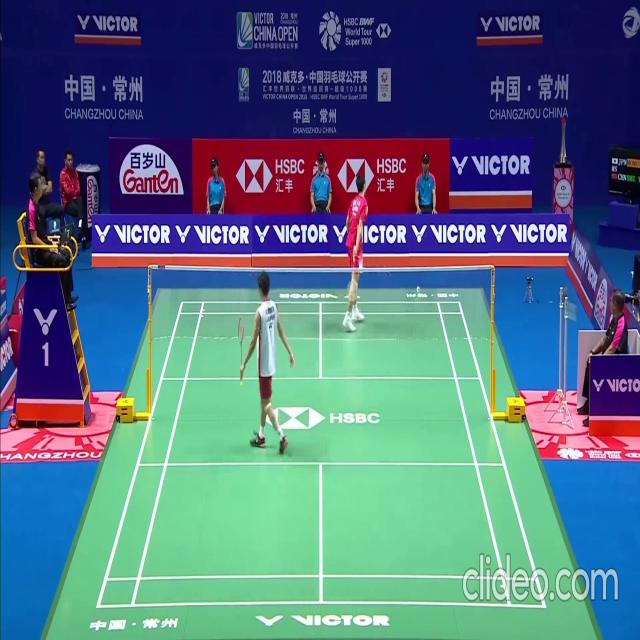Shuttlecock: (415, 285, 420, 293)
